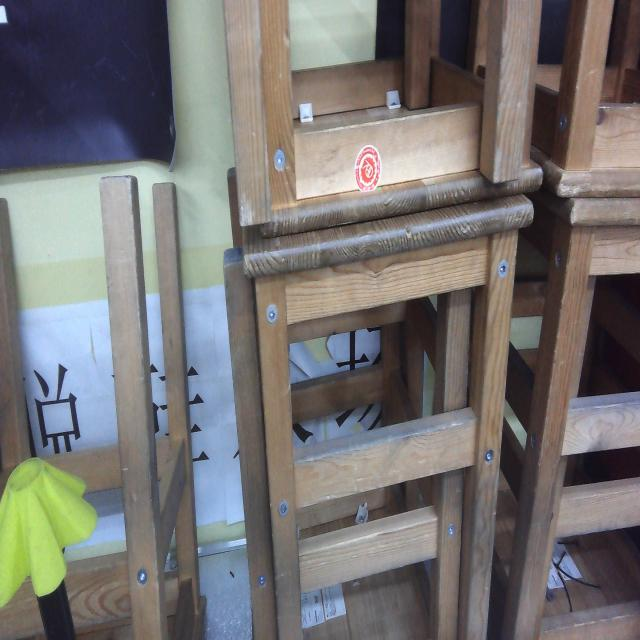Yellow-Stake-Head: (0, 457, 98, 608)
